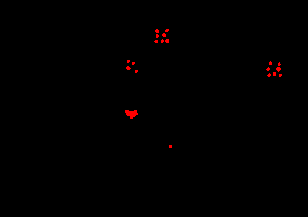Target: (125, 110, 138, 119), (276, 67, 281, 72), (126, 66, 131, 70), (155, 29, 159, 33), (162, 33, 166, 37), (165, 39, 169, 43), (266, 67, 270, 71), (267, 73, 271, 77), (165, 29, 169, 32), (156, 34, 159, 38), (161, 39, 164, 43), (154, 40, 158, 43), (269, 61, 272, 65), (278, 62, 281, 66), (273, 72, 276, 76), (127, 60, 130, 63), (132, 62, 135, 65), (135, 70, 138, 73), (279, 74, 282, 77), (169, 145, 172, 148)
